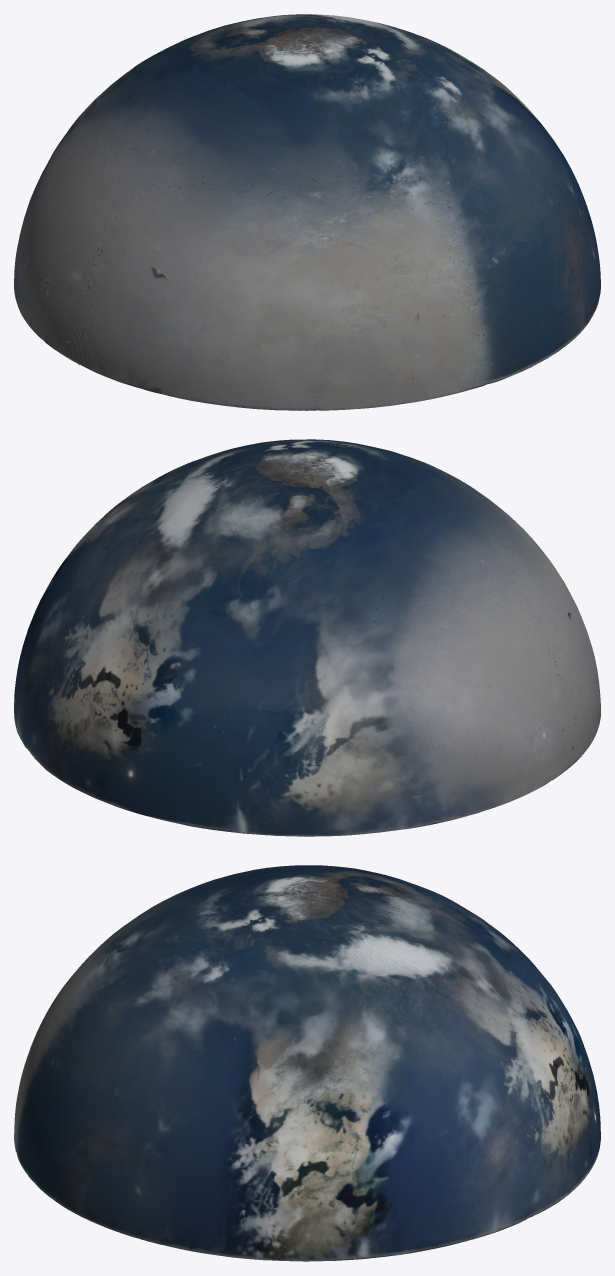
Rendered from Half-Earth(draco).glb.
3 views of the same model, one above another, from view 1: azimuth 30°, elevation 25°; view 2: azimuth 150°, elevation 25°; view 3: azimuth 270°, elevation 25° (orthographic).
Parts seen in each view (by area): view 1: Mesh_0.001; view 2: Mesh_0.001; view 3: Mesh_0.001.
Boxes of the visible parts, <box> form: Mesh_0.001: <box>14,14,600,410</box>; Mesh_0.001: <box>14,439,600,836</box>; Mesh_0.001: <box>14,865,600,1261</box>.
Bounding box in the file's own units: 2 × 0.9204 × 2.
Materials: 1 (1 with a texture image).
